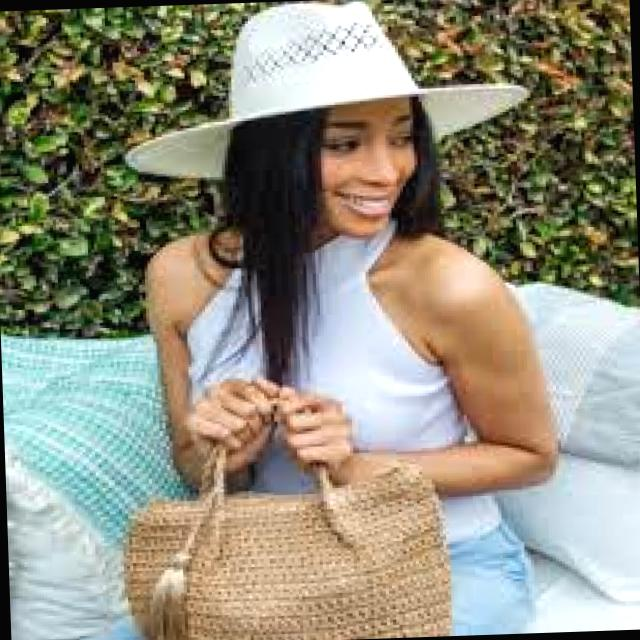hat: (125, 2, 526, 179)
